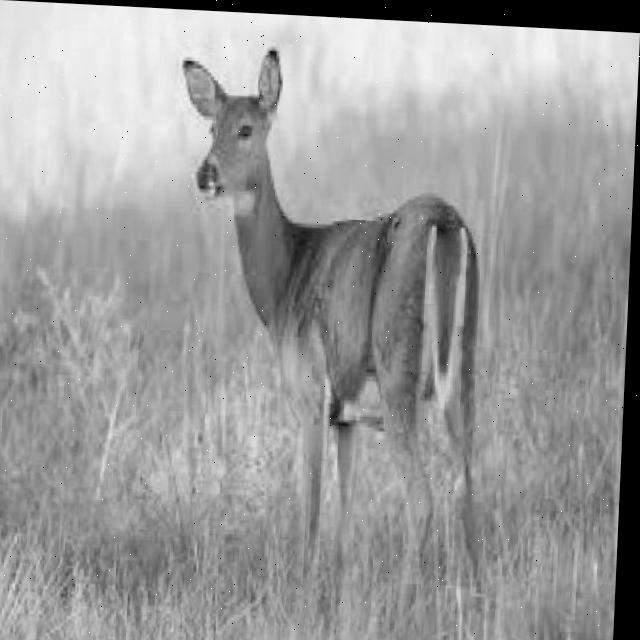Deer: (155, 33, 518, 607)
